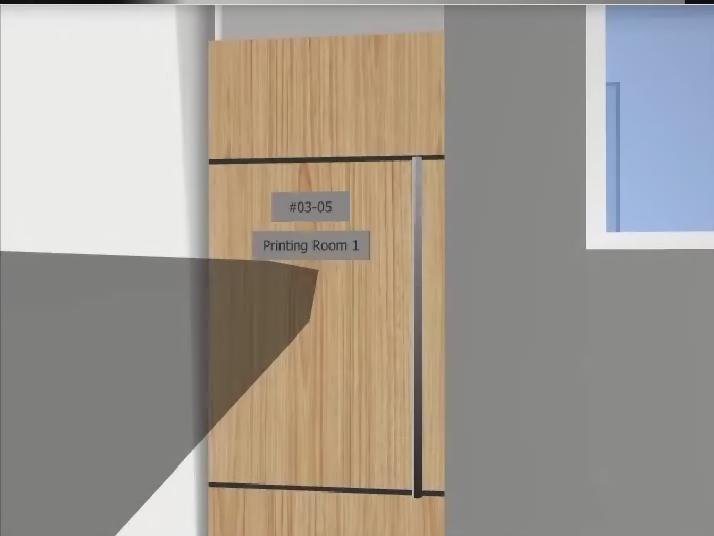door: (208, 31, 445, 536)
